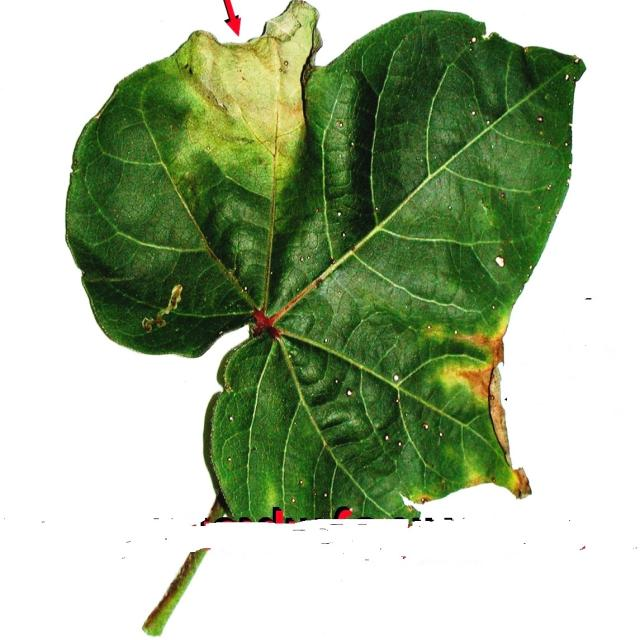Fusarium Wilt: (59, 37, 566, 601)
